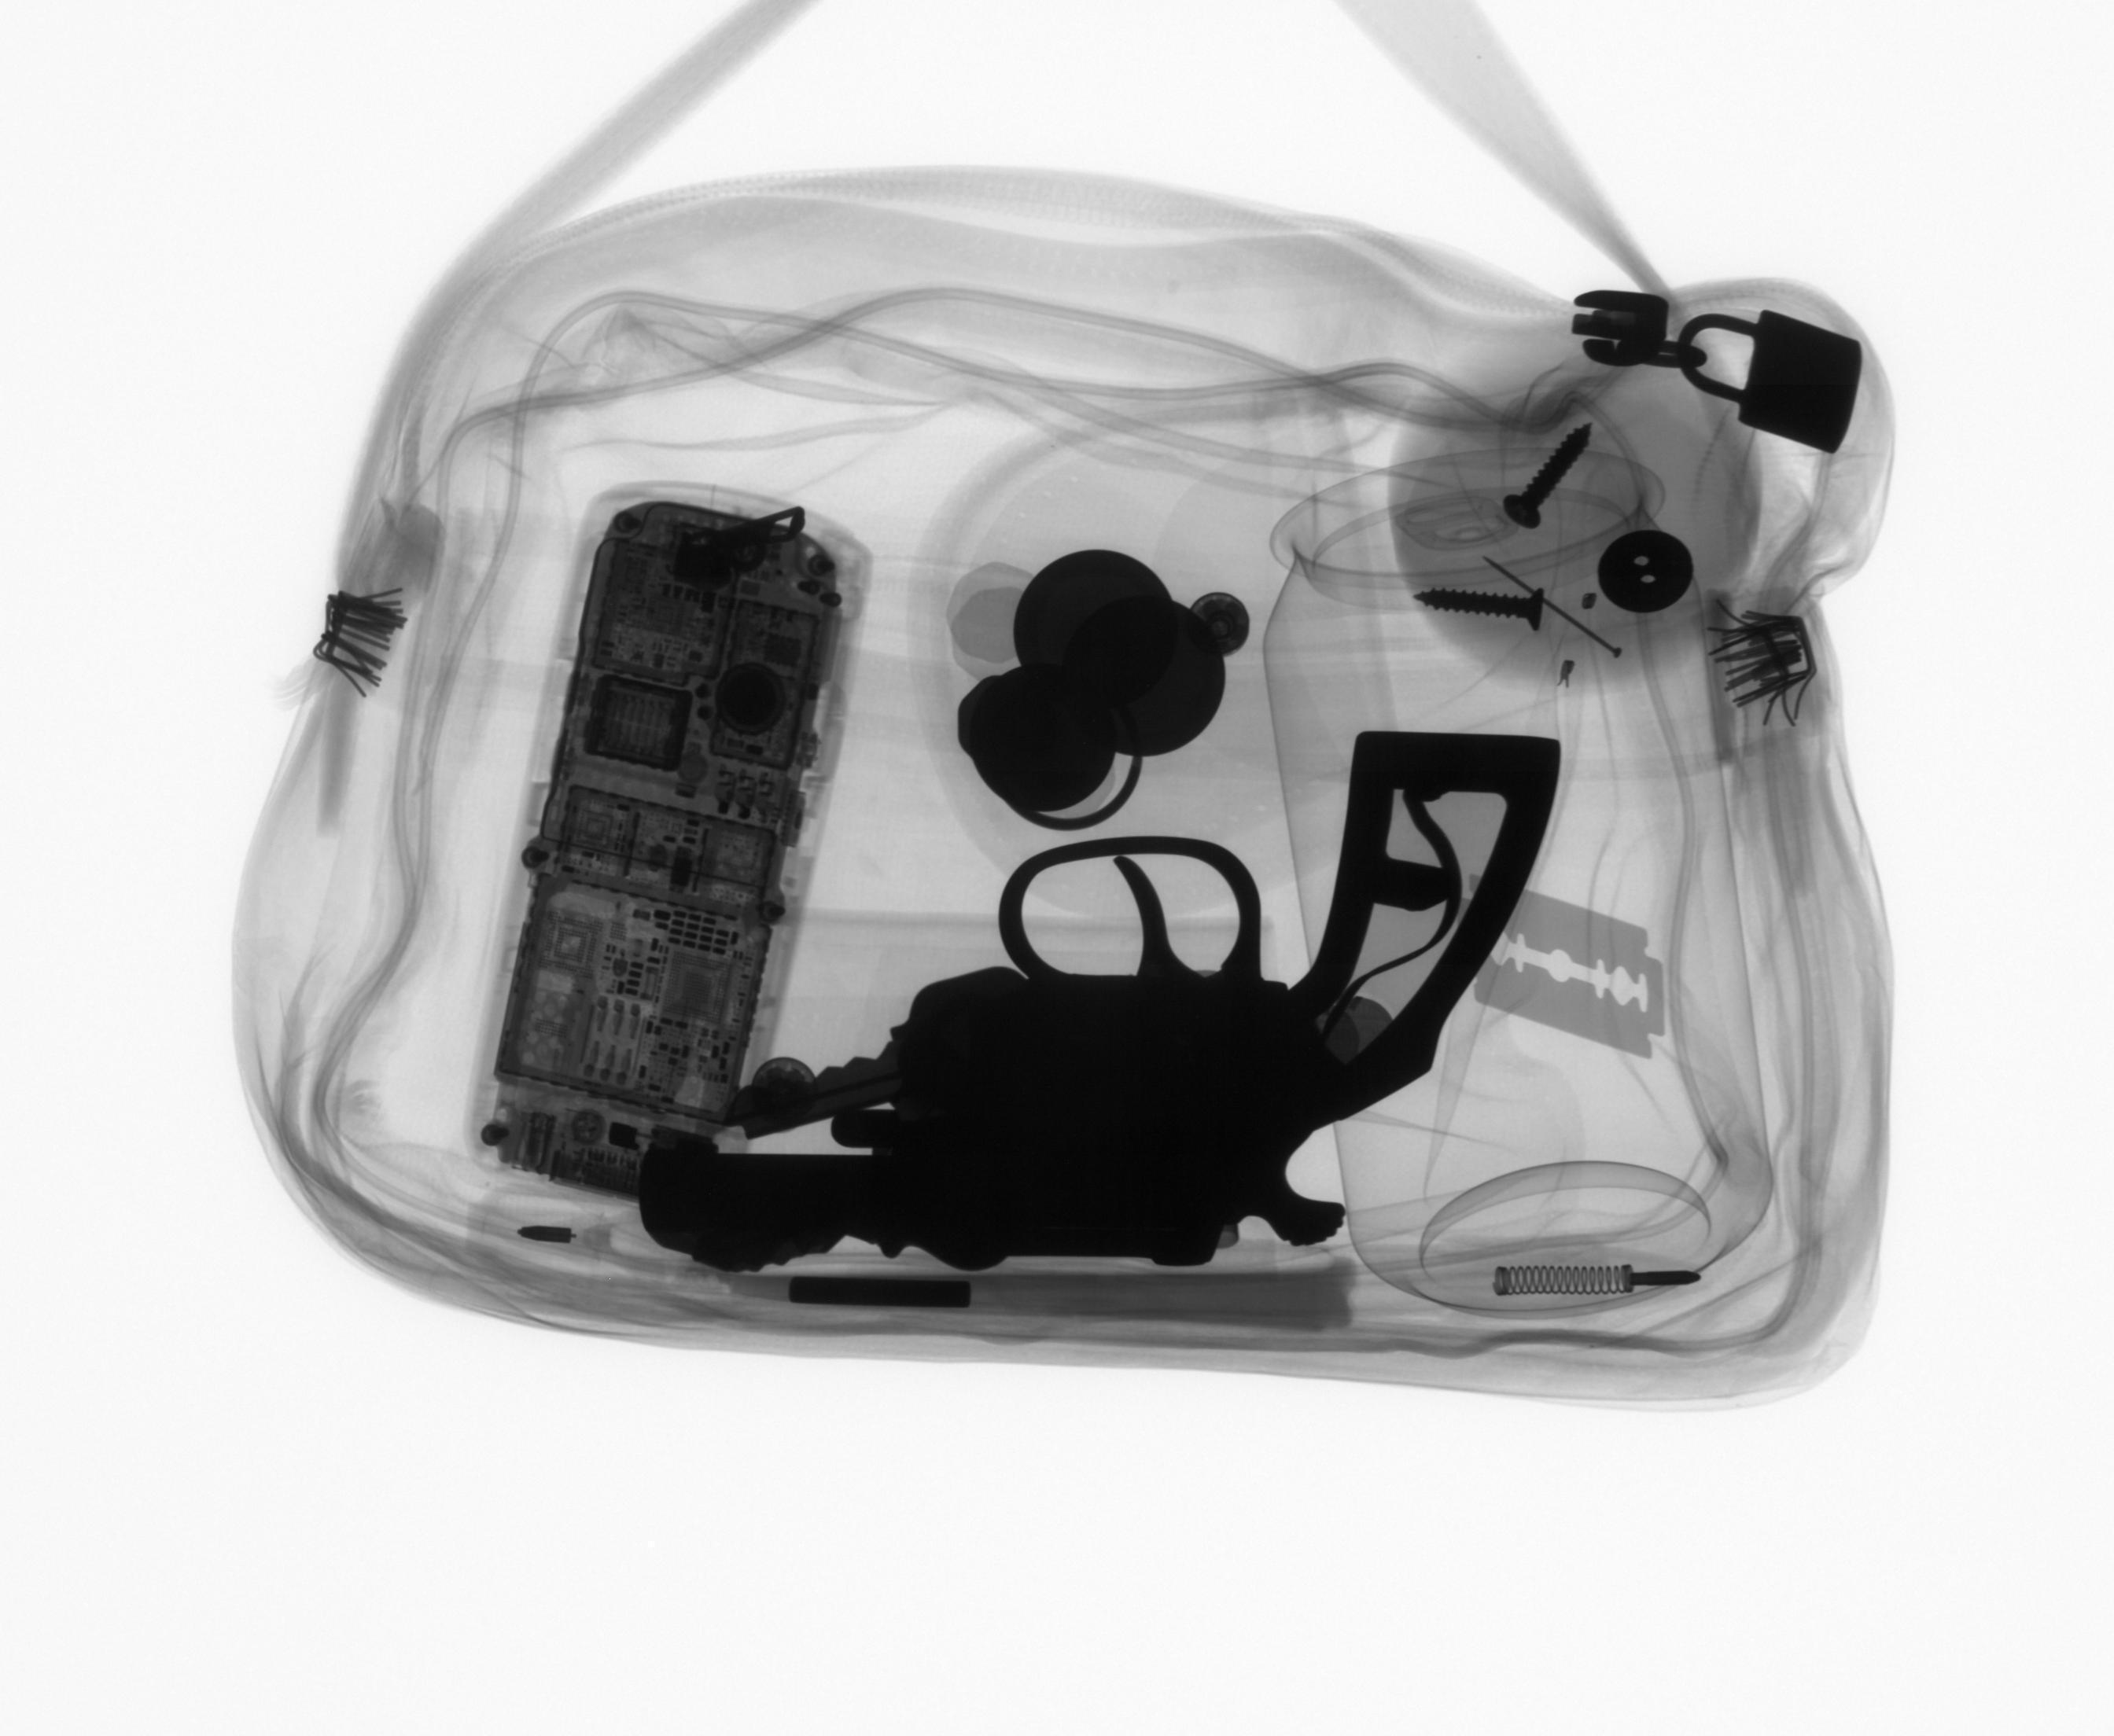Handgun: (627, 721, 1570, 1281)
RazorBlade: (1456, 867, 1677, 1064)
